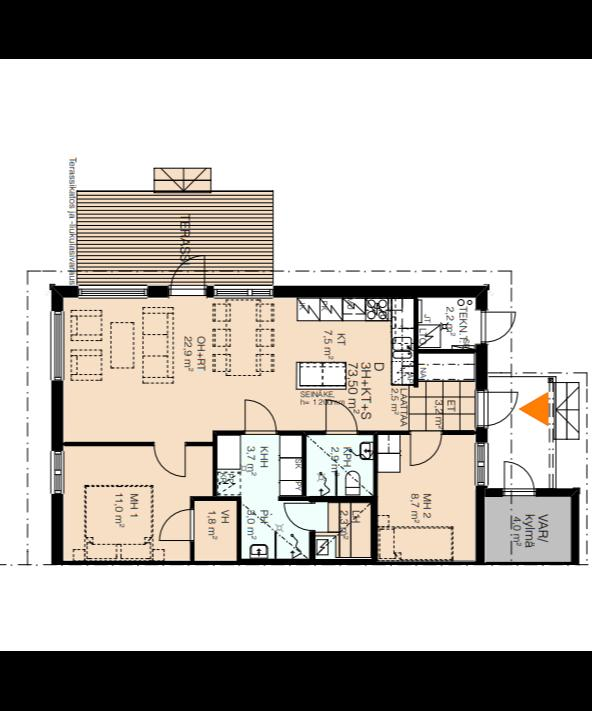door: (164, 250, 210, 299), (472, 386, 520, 432), (405, 426, 445, 470), (319, 399, 361, 440), (239, 397, 279, 440), (155, 506, 198, 546), (474, 309, 518, 348), (150, 439, 188, 480), (500, 459, 536, 501), (280, 498, 316, 534)
window: (72, 278, 153, 304), (44, 306, 69, 386), (207, 280, 274, 304), (470, 438, 491, 491), (45, 446, 65, 500)
